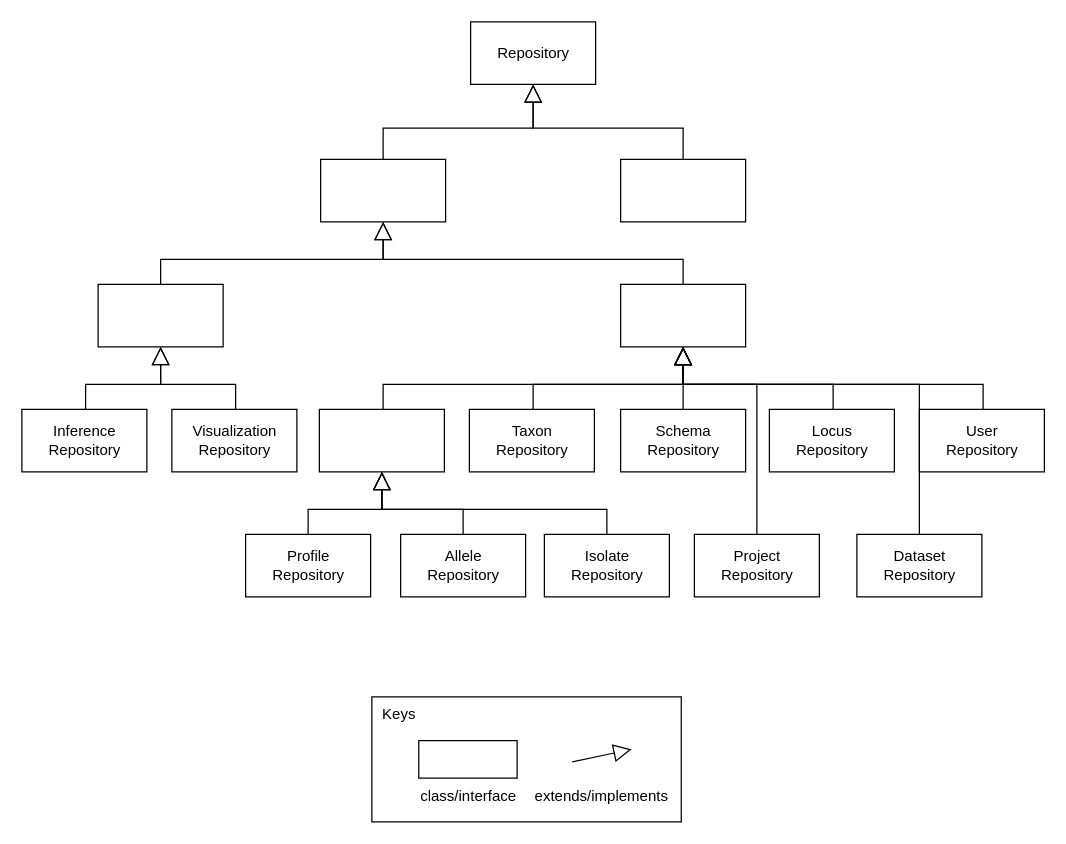
Image size: 1066x844. Some labels were removed from this diagram. The centre of each missing label's shape, as x and y in pixels:
Batch Repository: point 381,440
Entity Repository: point 382,190
Job Repository: point 682,190
UnversionedEntity Repository: point 160,315
VersionedEntity Repository: point 682,315
